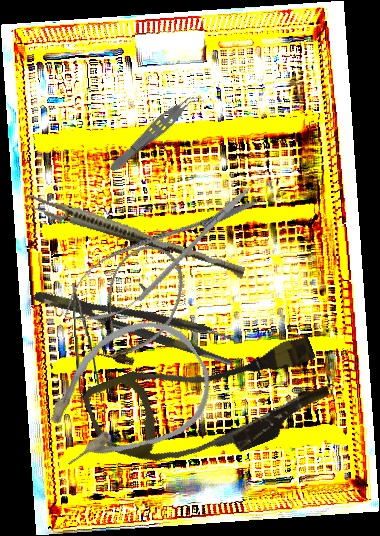Cannula: (80, 308, 338, 498), (20, 298, 230, 494), (81, 235, 197, 376)
Micro Scissor: (49, 170, 270, 342)
Tissue Forceps: (21, 191, 249, 280), (32, 273, 241, 367), (105, 87, 205, 177), (71, 281, 103, 411)
